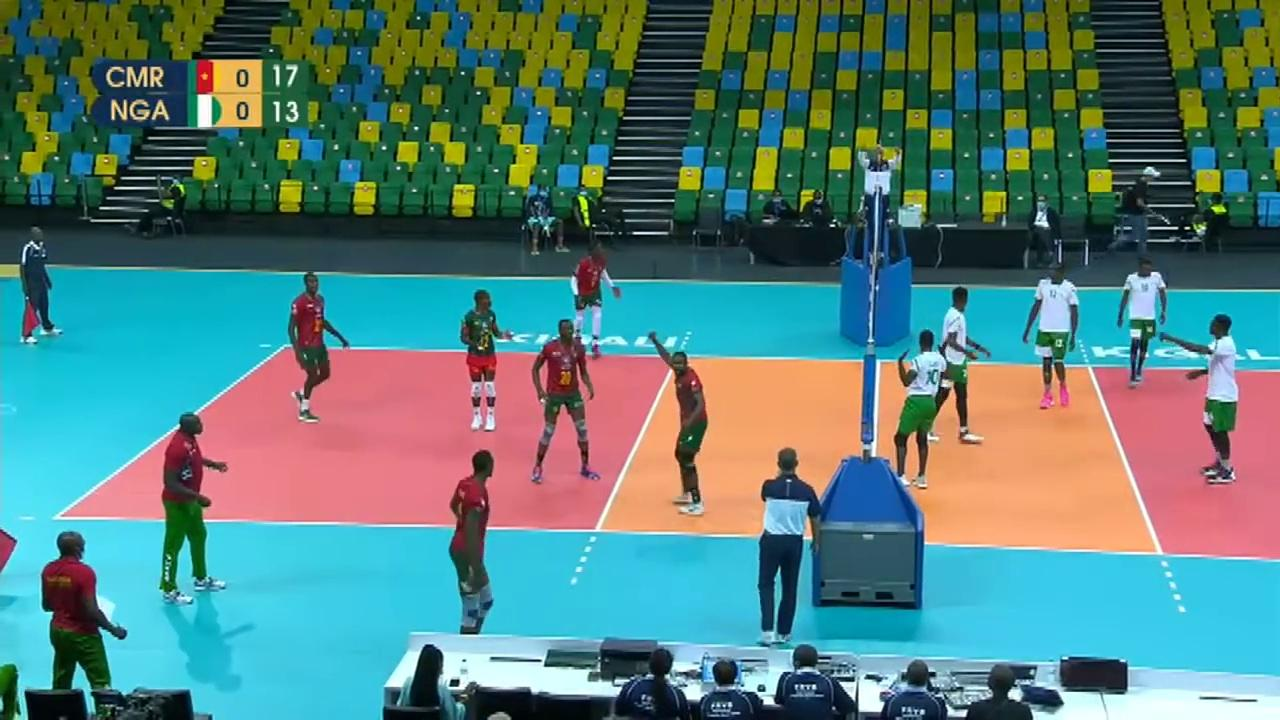player: (438, 454, 501, 650), (528, 319, 601, 481), (652, 335, 710, 513), (1180, 319, 1244, 480), (890, 332, 949, 486), (287, 275, 346, 420), (462, 289, 521, 430), (938, 289, 992, 441), (1025, 267, 1080, 407), (1119, 261, 1170, 386), (573, 246, 620, 358)
refree: (749, 438, 815, 641), (856, 136, 901, 249), (20, 227, 61, 341)
